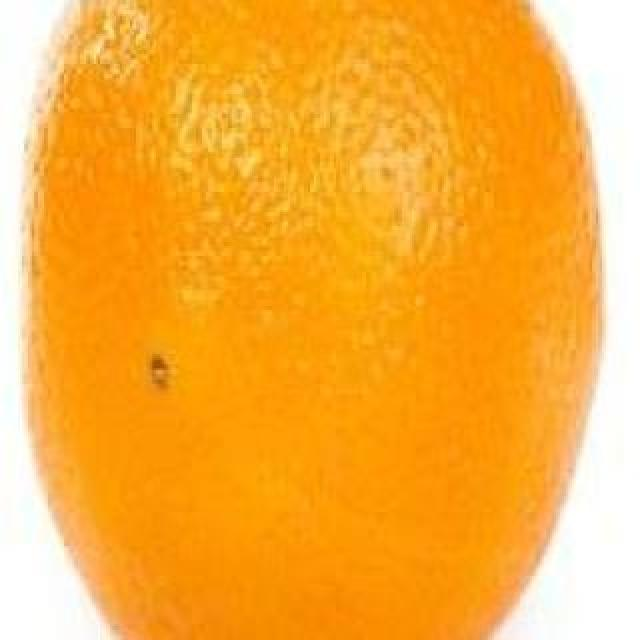orange: (16, 0, 606, 640)
